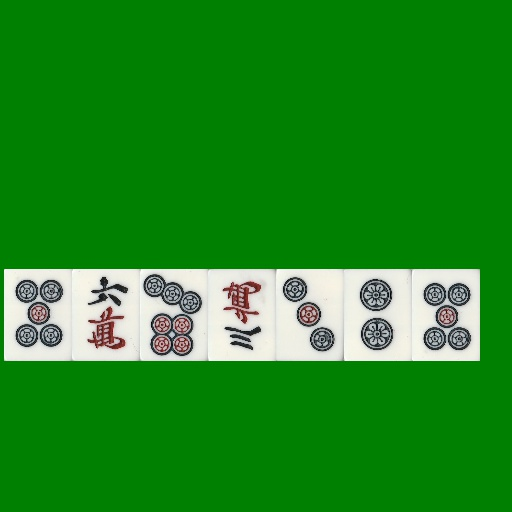2p: (344, 269, 412, 361)
3m: (208, 269, 276, 361)
3p: (276, 269, 344, 361)
5p: (4, 269, 72, 361), (412, 269, 480, 361)
6m: (72, 269, 140, 361)
7p: (140, 269, 208, 361)
